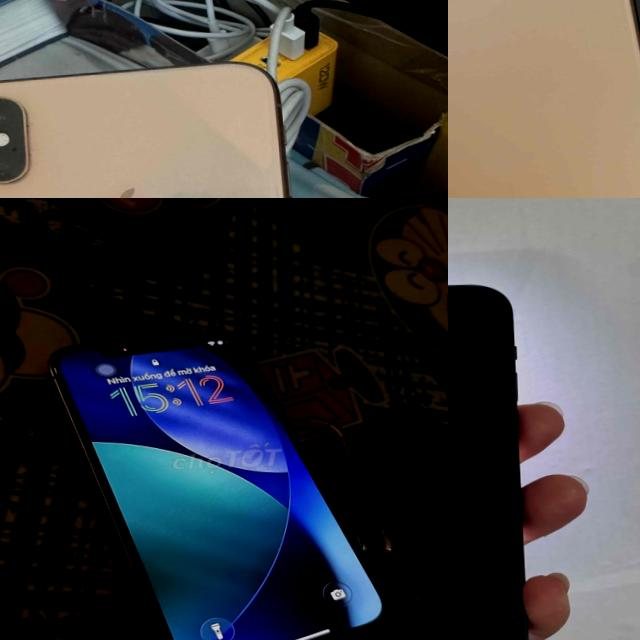gen_11: (448, 0, 640, 198)
gen_12_13: (30, 309, 391, 640), (448, 278, 532, 640)
gen_x_xs: (0, 55, 324, 198)
